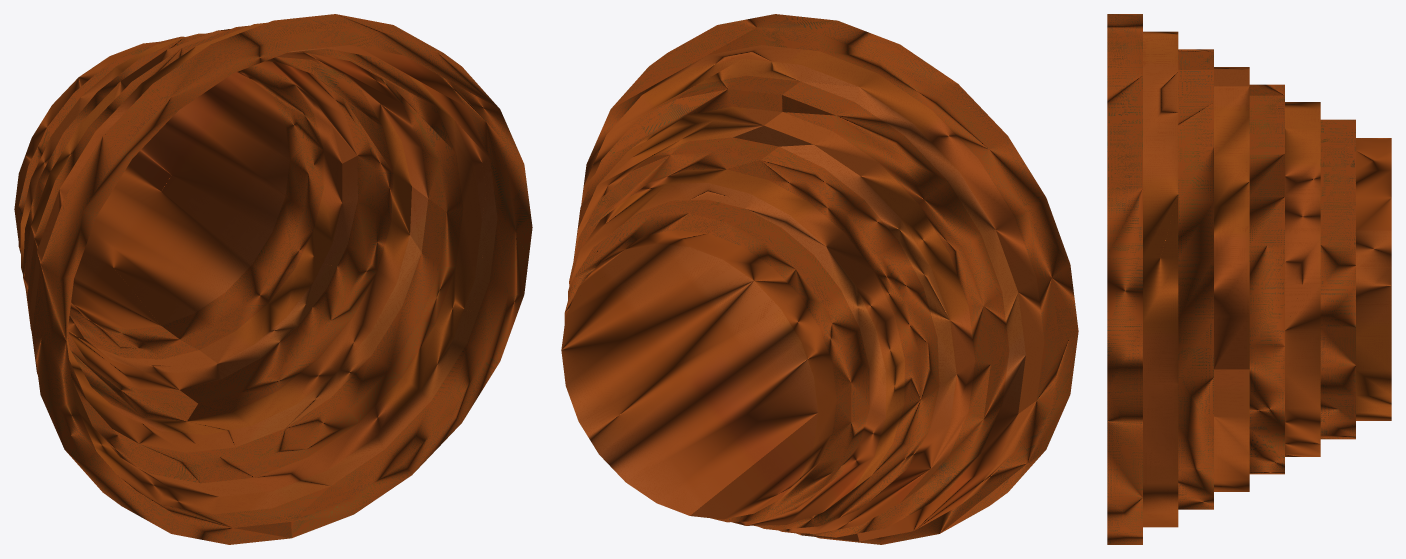
Rendered from model_align.obj.
The picture shows the model from 3 angles, left to right: view 1: azimuth 30°, elevation 25°; view 2: azimuth 150°, elevation 25°; view 3: azimuth 270°, elevation 25°; orthographic projection. The views are drawn at different scales.
Bounding box in the file's own units: 0.1441 × 0.1441 × 0.0768.
2 materials, 2 textured.
